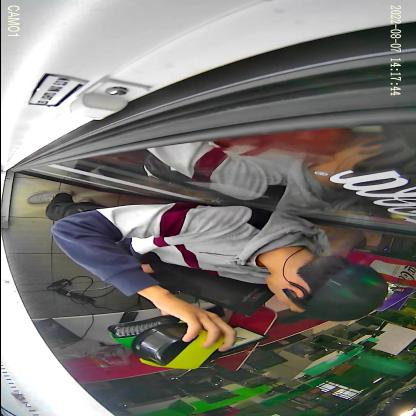green: (106, 314, 179, 351)
yellow: (129, 320, 225, 370)
